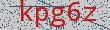6: (67, 1, 82, 28)
g: (49, 5, 66, 29)
k: (14, 1, 34, 26)
p: (34, 5, 50, 29)
z: (83, 3, 100, 26)
